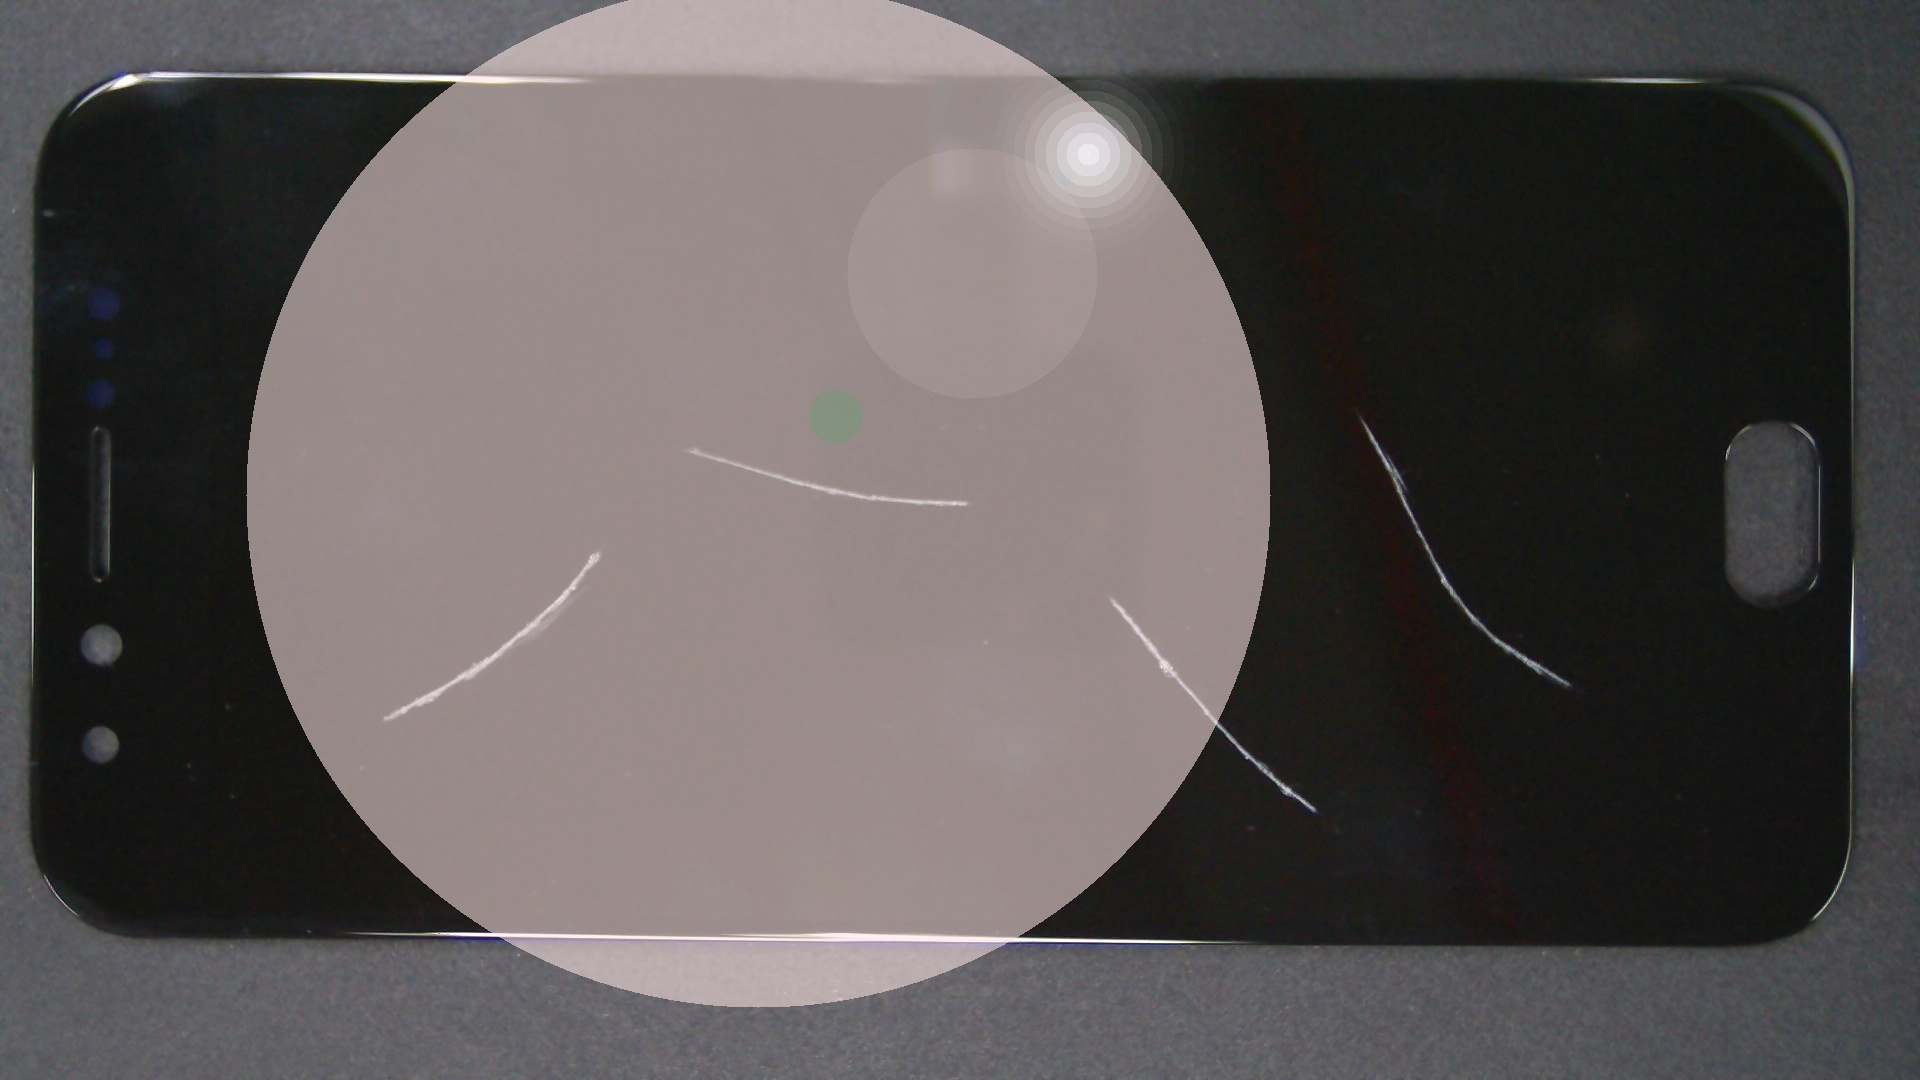oil: (555, 298, 1665, 894), (680, 207, 1920, 621), (298, 274, 894, 825), (348, 223, 1040, 671)
